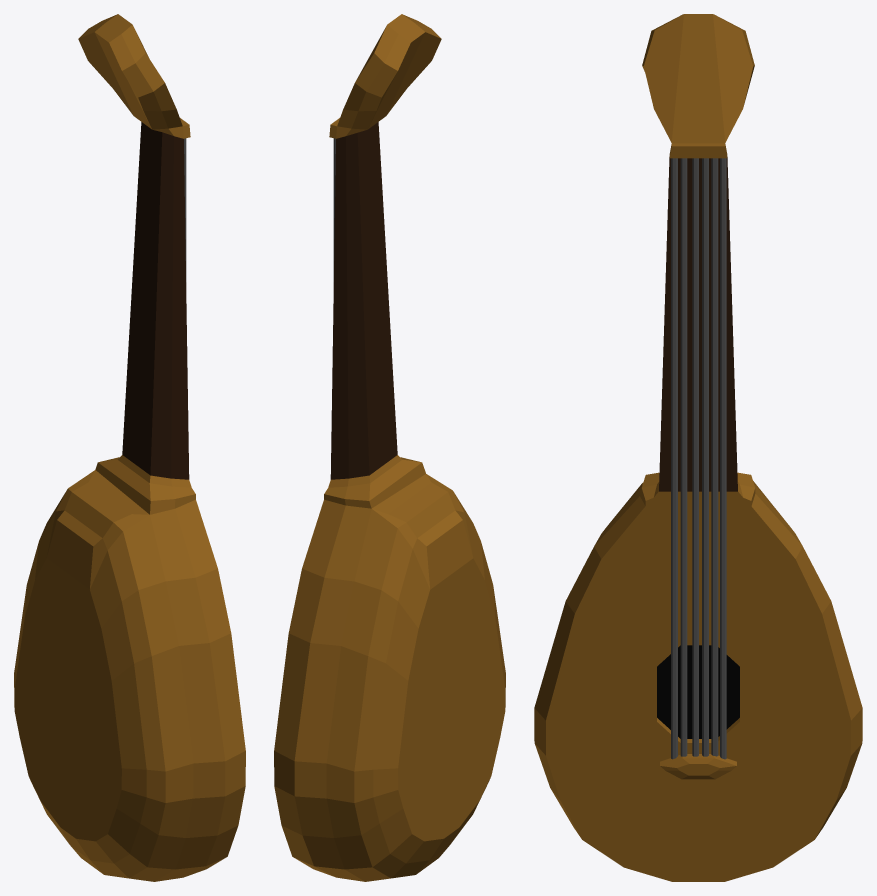
The model's file is Lute.fbx.
3 views of the same model, side by side, from view 1: azimuth 30°, elevation 25°; view 2: azimuth 150°, elevation 25°; view 3: azimuth 270°, elevation 25° (orthographic).
Visible parts, largest first — view 1: Cube; view 2: Cube; view 3: Cube.
Part boxes in pixels (box(x1,y1,x2,y2)): Cube: box(14, 14, 245, 881); Cube: box(274, 14, 505, 881); Cube: box(534, 14, 862, 881).
Bounding box in the file's own units: 93.59 × 677 × 238.
